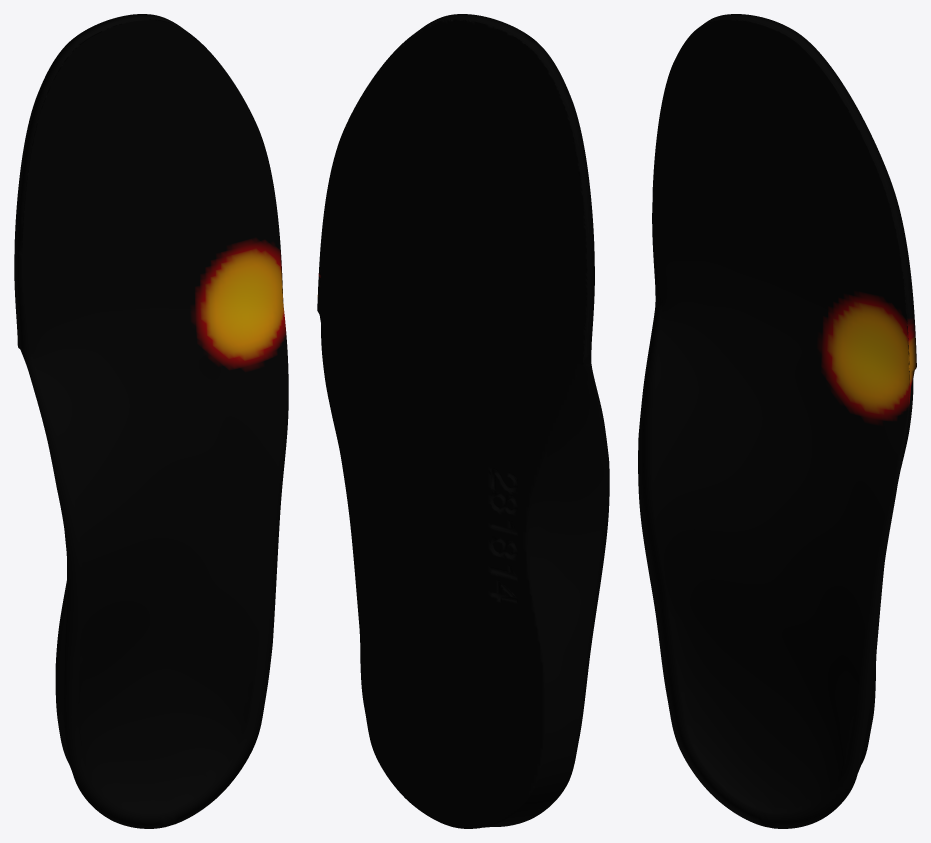
The model's file is PAIR-OFFLOAD-5TH_RIGHT.glb.
3 views of the same model, side by side, from view 1: azimuth 30°, elevation 25°; view 2: azimuth 150°, elevation 25°; view 3: azimuth 330°, elevation 25° (orthographic). The views are drawn at different scales.
Parts seen in each view (by area): view 1: world; view 2: world; view 3: world.
Part boxes in pixels (x1,y1,x2,y2): world: (14, 14, 288, 828); world: (317, 14, 609, 828); world: (638, 14, 916, 828).
Bounding box in the file's own units: 101 × 292 × 24.34.
